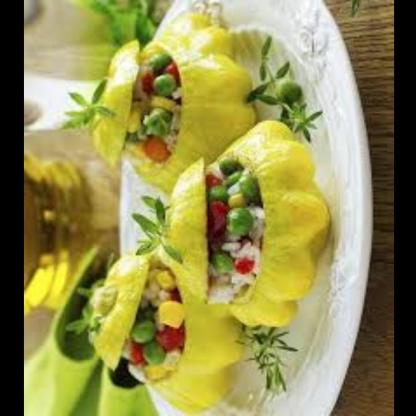squash-patisson: (221, 111, 329, 342), (130, 12, 242, 200), (147, 258, 238, 415), (148, 149, 212, 301), (65, 246, 140, 374), (82, 46, 141, 157)
